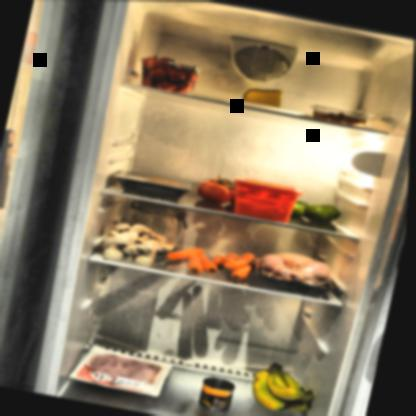banana: (244, 355, 331, 415)
beef: (111, 167, 196, 205)
butter: (228, 177, 305, 224)
carrot: (163, 236, 262, 285)
cheese: (240, 80, 289, 110)
chicken: (252, 246, 342, 298)
corn: (200, 374, 241, 411)
lime: (276, 194, 349, 226)
mushrooms: (95, 216, 179, 271)
shrimp: (311, 108, 369, 129)
strawberries: (132, 50, 208, 98)
tomato: (193, 168, 255, 210)
